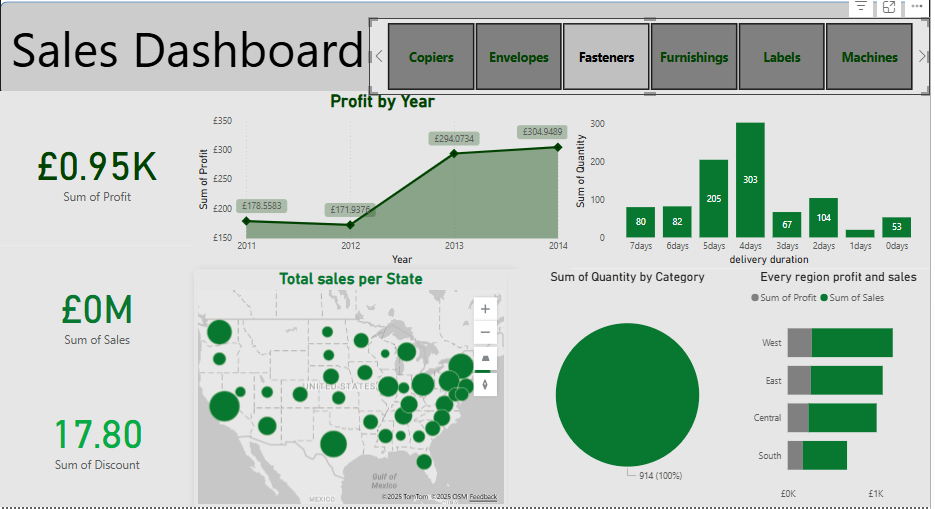

The page's visual inventory and layout, read from the dashboard file:
{"tool":"powerbi","page":{"name":"Page 1","canvas":[1280,720],"ordinal":0},"visuals":[{"type":"shape","title":"    ","box":[0,0,1280,152.9],"z":0},{"type":"card","fields":{"Values":["Sum(Data.Profit)"]},"box":[0,147.3,267,213.3],"z":1000},{"type":"card","fields":{"Values":["Sum(Data.Discount)"]},"box":[0,527.1,267,192.7],"z":2000},{"type":"card","fields":{"Values":["Sum(Data.Sales)"]},"box":[0,360.6,267,181.7],"z":3000},{"type":"areaChart","title":"Profit by Year","fields":{"Category":["Data.Year"],"Y":["Sum(Data.Profit)"]},"box":[267,147.3,518.9,245],"z":4000},{"type":"azureMap","title":"Total sales per State","fields":{"Size":["Sum(Data.Sales)"],"Category":["Data.State"]},"box":[267,392.3,432.2,327.6],"z":5000},{"type":"pieChart","fields":{"Category":["Data.Category"],"Y":["Sum(Data.Quantity)"]},"box":[699.2,392.3,328.9,327.6],"z":6000},{"type":"slicer","fields":{"Values":["Data.Sub-Category"]},"box":[507.9,46.8,772.1,106],"z":7000},{"type":"clusteredColumnChart","fields":{"Category":["Data.delivery duration"],"Y":["Sum(Data.Quantity)"]},"box":[786,153,494,239],"z":8000},{"type":"barChart","title":"Every region profit and sales ","fields":{"Category":["Data.Region"],"Y":["Sum(Data.Profit)","Sum(Data.Sales)"]},"box":[1028,392,252,328],"z":9000}]}

Visuals, with their boxes on the page's 1280x720 design canvas (x1, y1, x2, y2). These are canvas units, not pixel positions in the 935x509 screenshot, which may show the page scaled, cropped or inside an application window:
"    " shape: (left=0, top=0, right=1280, bottom=153)
card - Sum(Data.Profit): (left=0, top=147, right=267, bottom=361)
card - Sum(Data.Discount): (left=0, top=527, right=267, bottom=720)
card - Sum(Data.Sales): (left=0, top=361, right=267, bottom=542)
"Profit by Year" areaChart: (left=267, top=147, right=786, bottom=392)
"Total sales per State" azureMap: (left=267, top=392, right=699, bottom=720)
pieChart - Data.Category x Sum(Data.Quantity): (left=699, top=392, right=1028, bottom=720)
slicer - Data.Sub-Category: (left=508, top=47, right=1280, bottom=153)
clusteredColumnChart - Data.delivery duration x Sum(Data.Quantity): (left=786, top=153, right=1280, bottom=392)
"Every region profit and sales " barChart: (left=1028, top=392, right=1280, bottom=720)
